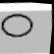no answer: (0, 8, 39, 41)
